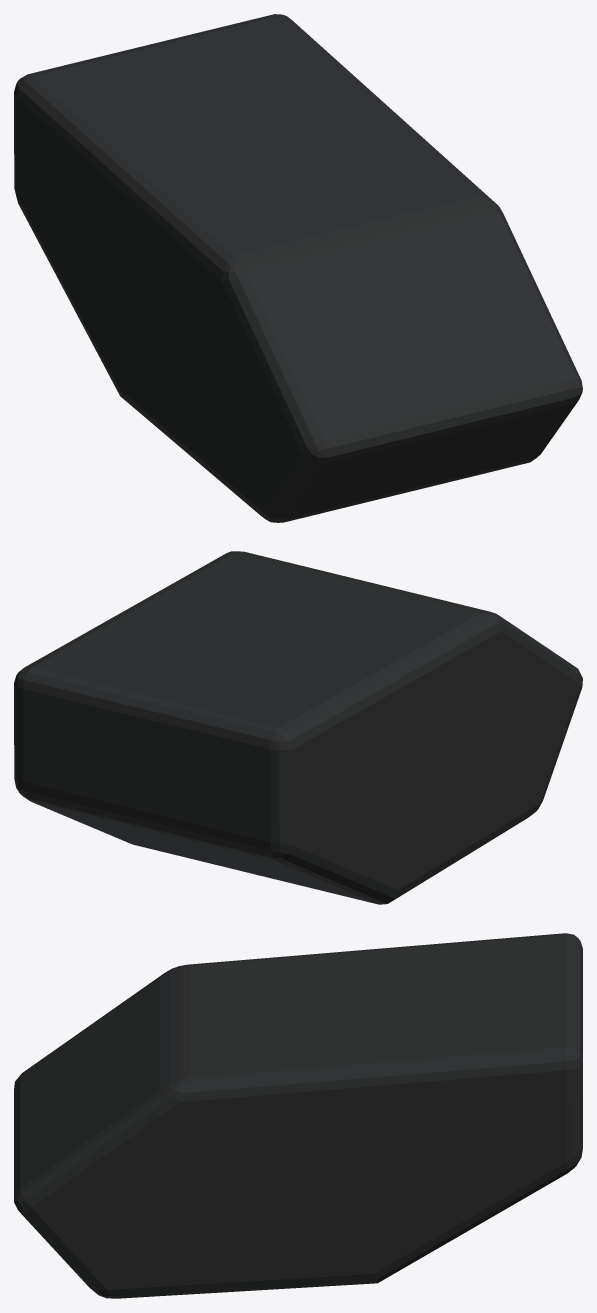
File: SM_M590_ActionRelease.fbx
3 renders of one model, top to bottom at view 1: azimuth 30°, elevation 25°; view 2: azimuth 150°, elevation 25°; view 3: azimuth 270°, elevation 25°, orthographic. The views are drawn at different scales.
Parts seen in each view (by area): view 1: SM_M590_ActionRelease; view 2: SM_M590_ActionRelease; view 3: SM_M590_ActionRelease.
Part boxes in pixels (left/top/right/bottom): SM_M590_ActionRelease: left=14, top=14, right=582, bottom=522; SM_M590_ActionRelease: left=14, top=551, right=582, bottom=904; SM_M590_ActionRelease: left=14, top=933, right=582, bottom=1298.
Bounding box in the file's own units: 0.7 × 1.32 × 0.6419.
